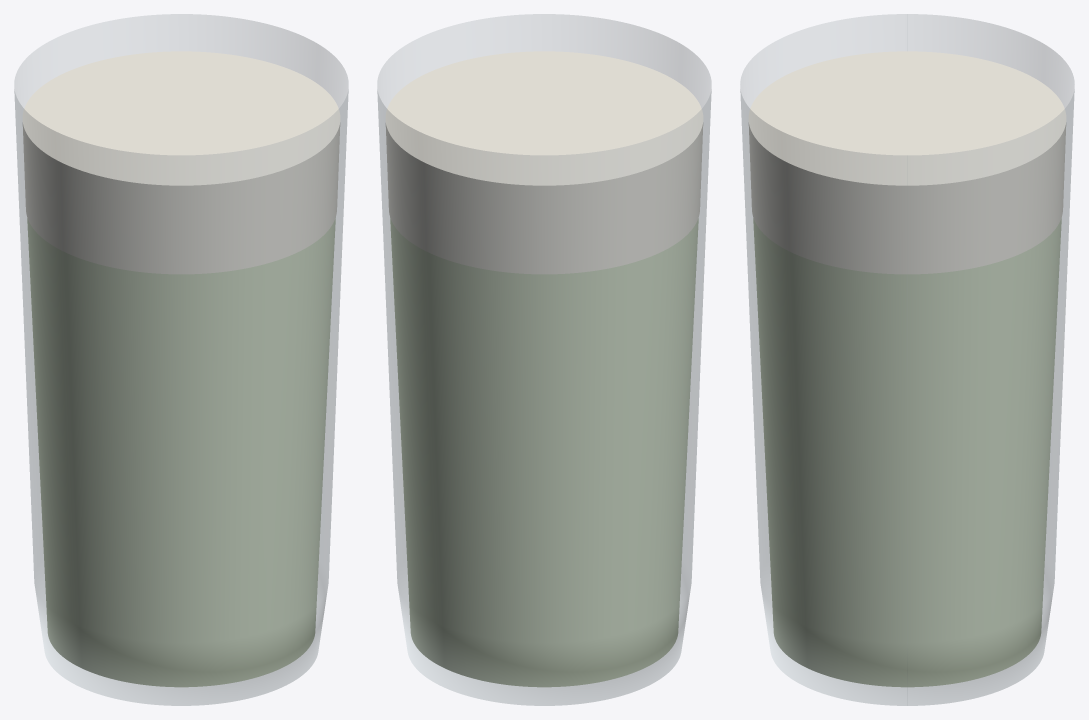
The model's file is bebida-4-hero.glb.
3 renders of one model, left to right at view 1: azimuth 30°, elevation 25°; view 2: azimuth 150°, elevation 25°; view 3: azimuth 270°, elevation 25°, orthographic.
Bounding box in the file's own units: 0.07 × 0.13 × 0.07.
